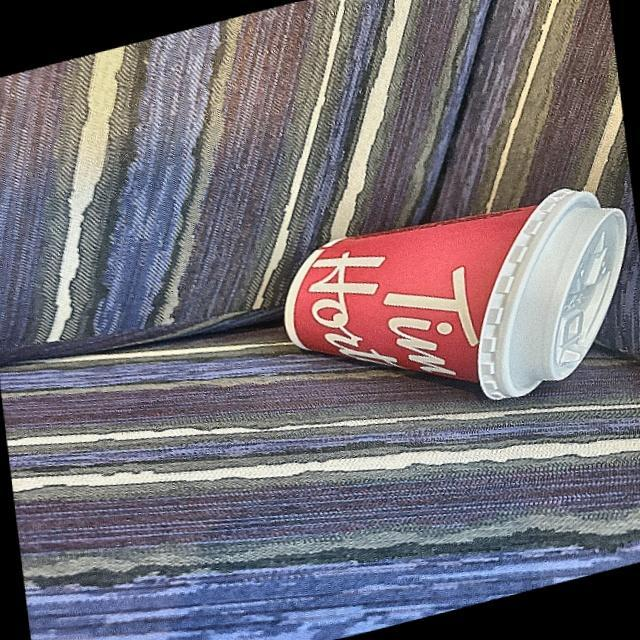timmies: (269, 183, 640, 410)
